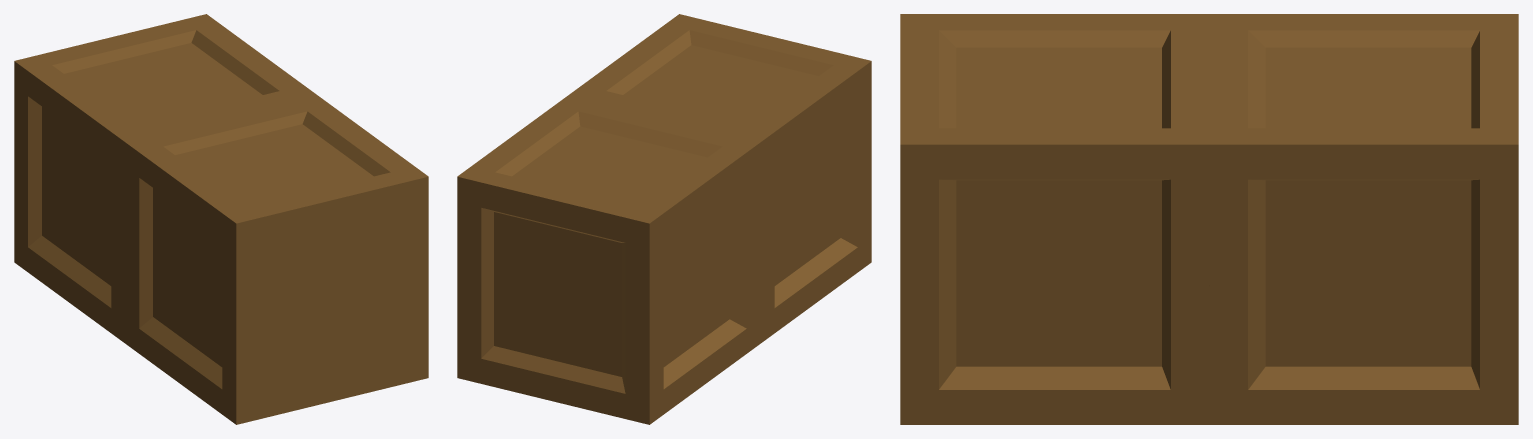
Rendered from Crate4.fbx.
The picture shows the model from 3 angles, left to right: view 1: azimuth 30°, elevation 25°; view 2: azimuth 150°, elevation 25°; view 3: azimuth 270°, elevation 25°; orthographic projection. The views are drawn at different scales.
Visible parts, largest first — view 1: Plane.015; view 2: Plane.015; view 3: Plane.015.
Boxes of the visible parts, x1,y1,x2,y2 form: Plane.015: [14, 14, 428, 424]; Plane.015: [457, 14, 871, 424]; Plane.015: [900, 14, 1518, 424].
Size of the model in its own units: 200 by 200 by 400.
